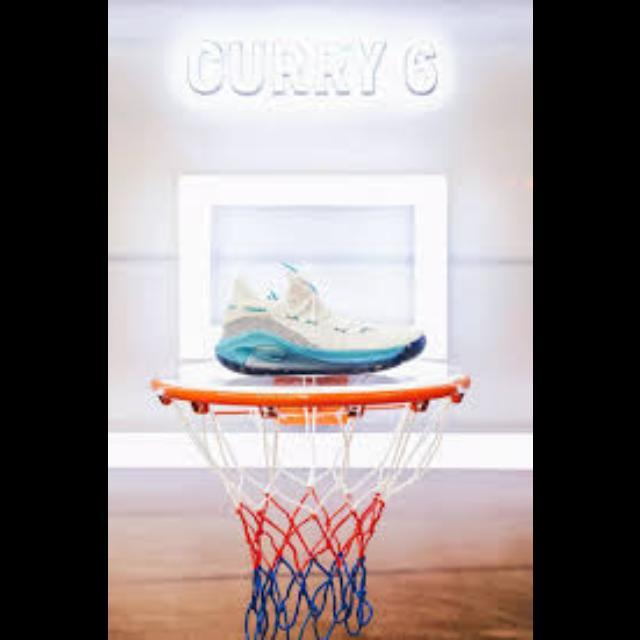rim: (153, 378, 471, 640)
